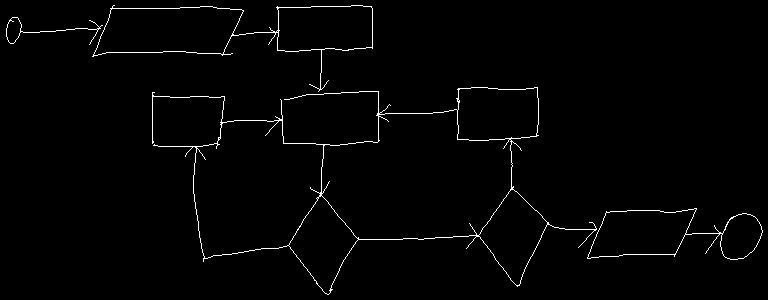arrow: (185, 146, 288, 261), (358, 223, 478, 248), (21, 20, 102, 44), (376, 104, 456, 121), (548, 222, 596, 247), (220, 116, 282, 135), (310, 144, 329, 198), (686, 225, 721, 253), (503, 137, 521, 189), (231, 27, 279, 44), (309, 50, 328, 91)
connection: (720, 213, 762, 259), (6, 17, 21, 43)
data: (92, 5, 243, 56), (587, 208, 696, 258)
decision: (288, 192, 359, 294), (477, 186, 548, 286)
process: (280, 91, 379, 145), (276, 5, 372, 51), (456, 87, 538, 140), (152, 92, 224, 148)
